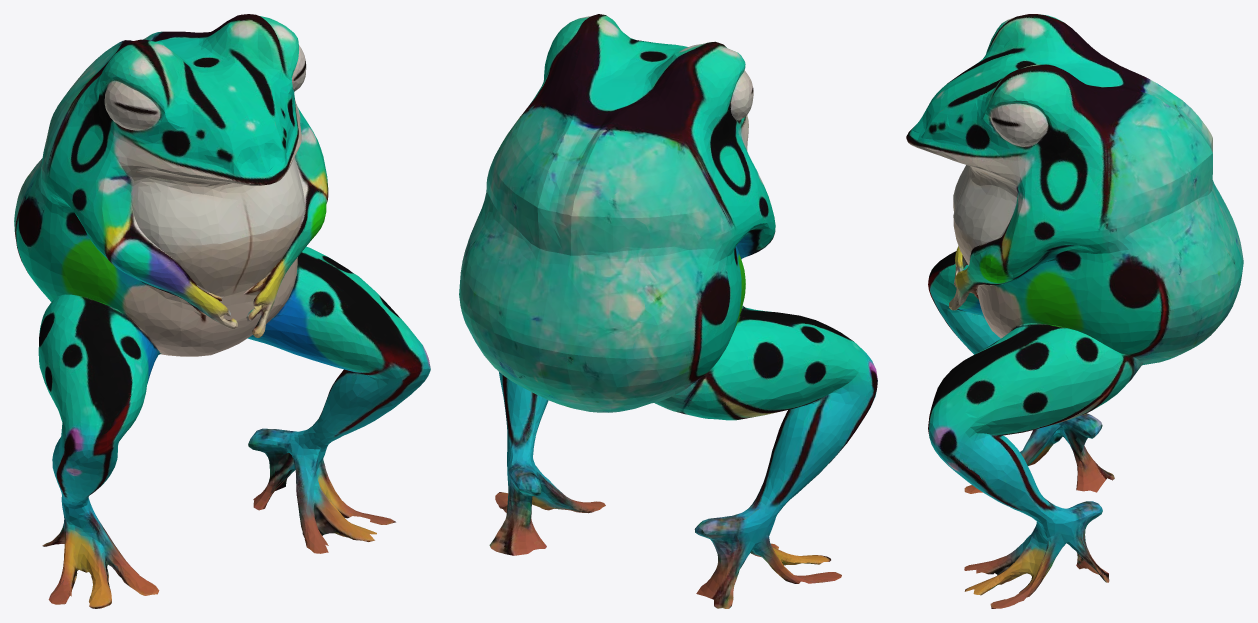
The model's file is swamp_toad.glb.
3 views of the same model, side by side, from view 1: azimuth 30°, elevation 25°; view 2: azimuth 150°, elevation 25°; view 3: azimuth 270°, elevation 25° (orthographic). The views are drawn at different scales.
Parts seen in each view (by area): view 1: geometry_0; view 2: geometry_0; view 3: geometry_0.
Boxes of the visible parts, bbox=[...] form: geometry_0: bbox=[14, 14, 430, 608]; geometry_0: bbox=[459, 14, 877, 608]; geometry_0: bbox=[906, 14, 1243, 608].
Size of the model in its own units: 0.9553 by 1.3 by 0.8139.
Materials: 1 (1 with a texture image).
